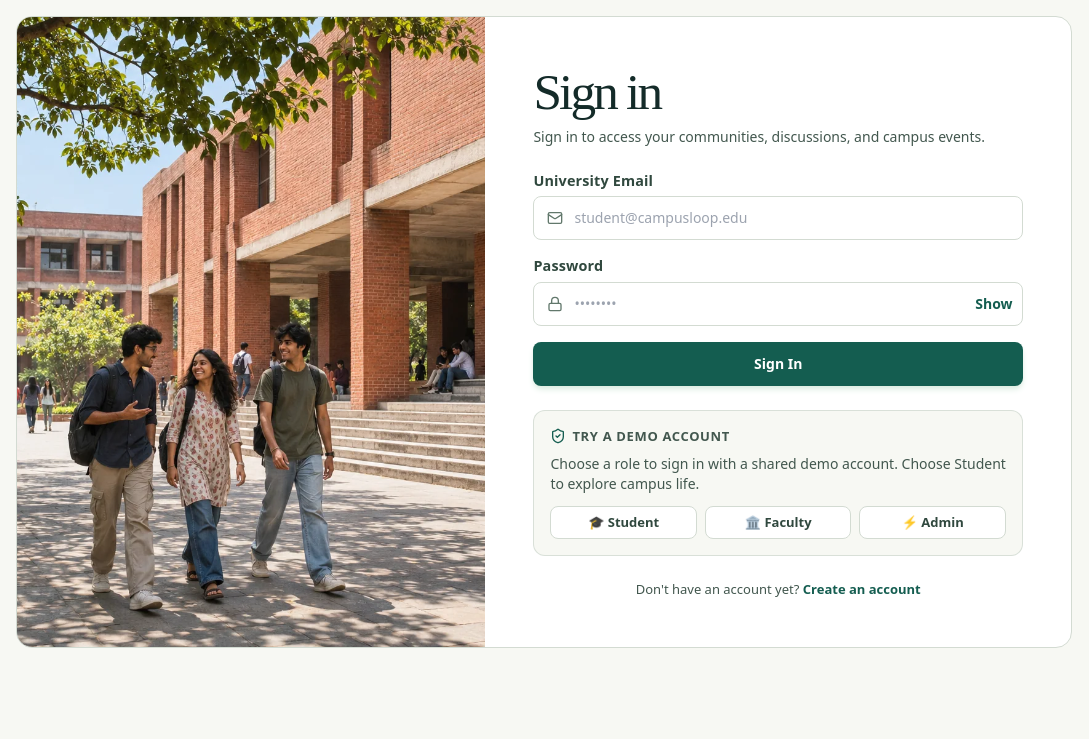
Test: Login page › displays server error banner on failed login
This screenshot has width=1089, height=739.
In the field labelled "University Email": (778, 218) [533,196,1023,240], type "bad@campusloop.edu"
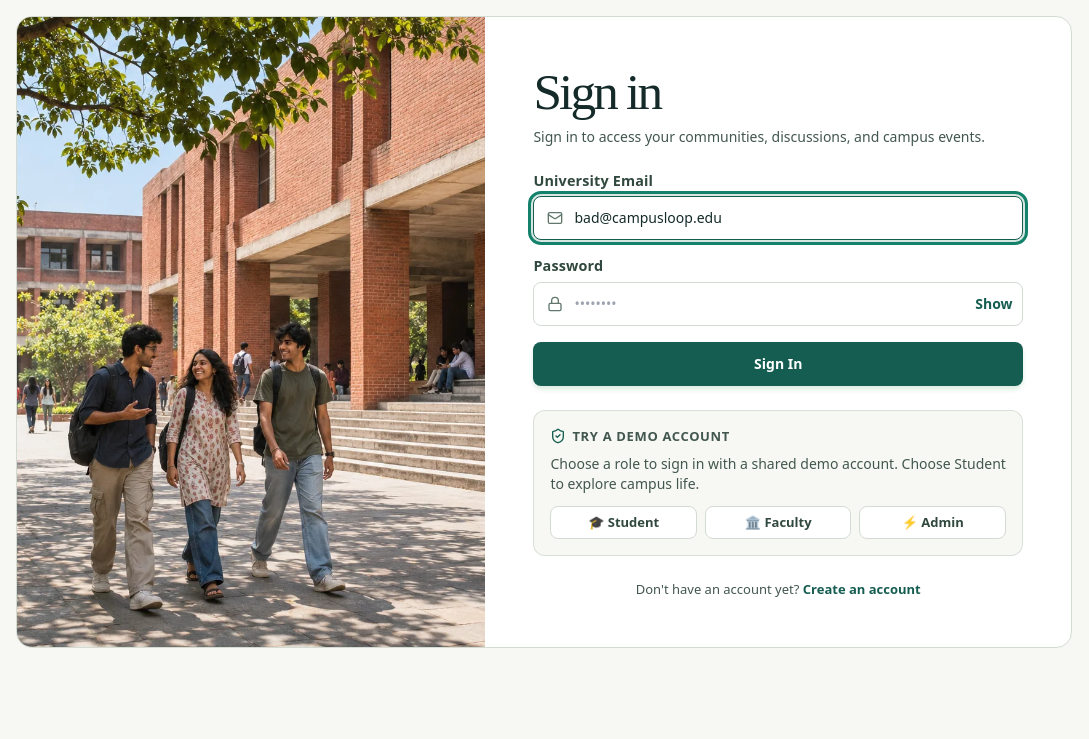
In the password field labelled "Password": (778, 304) [533,282,1023,326], type "WrongPass"
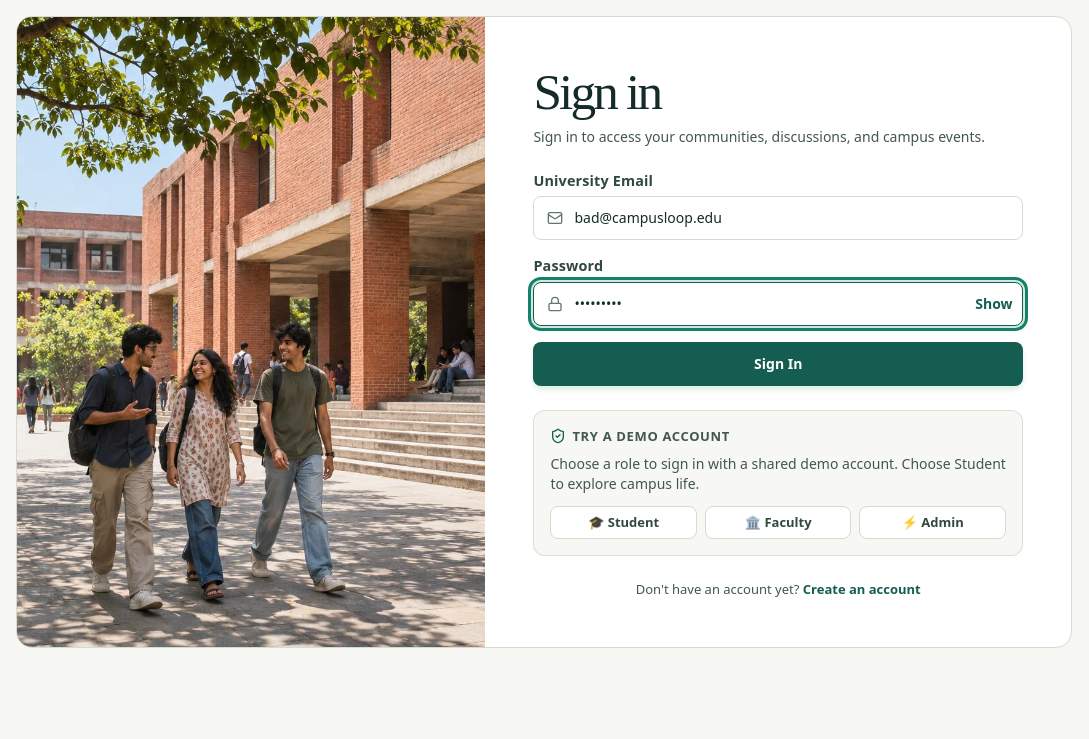
Click the button "Sign In": (778, 364) [533,342,1023,386]
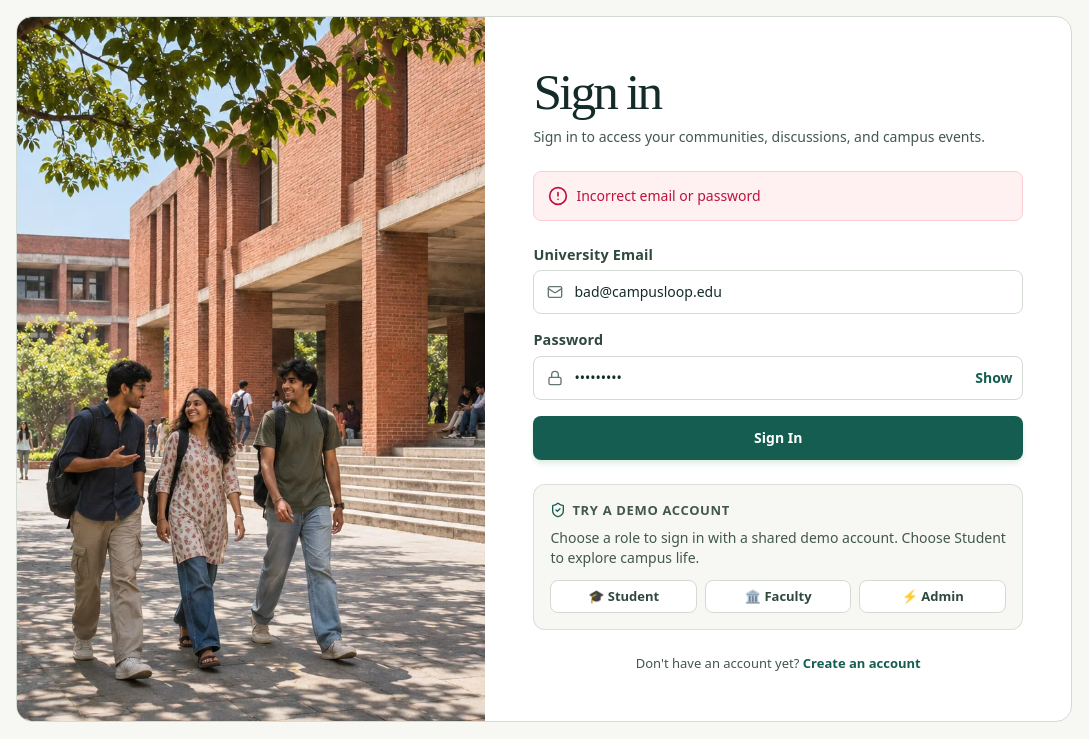
Now the message reads "Incorrect email or password", box [576,186,761,205]
